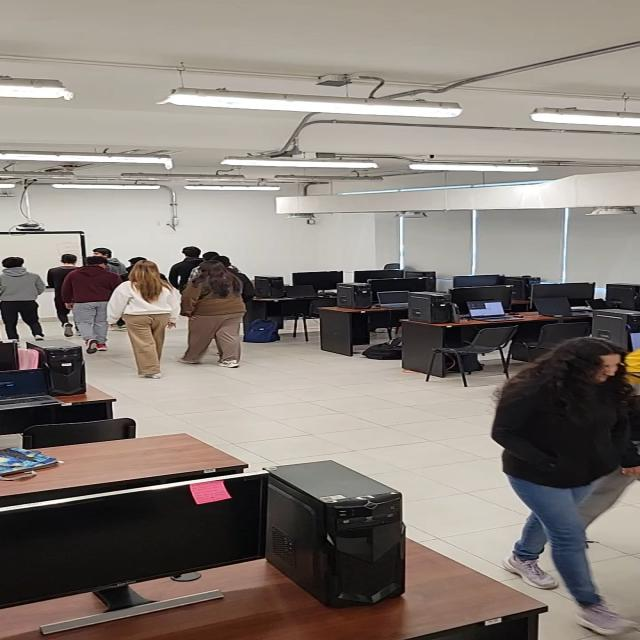Persona: (487, 337, 640, 636), (103, 259, 184, 380), (182, 260, 248, 369), (59, 255, 127, 354), (0, 255, 50, 342), (46, 254, 87, 336), (170, 243, 243, 288), (86, 250, 133, 284)
